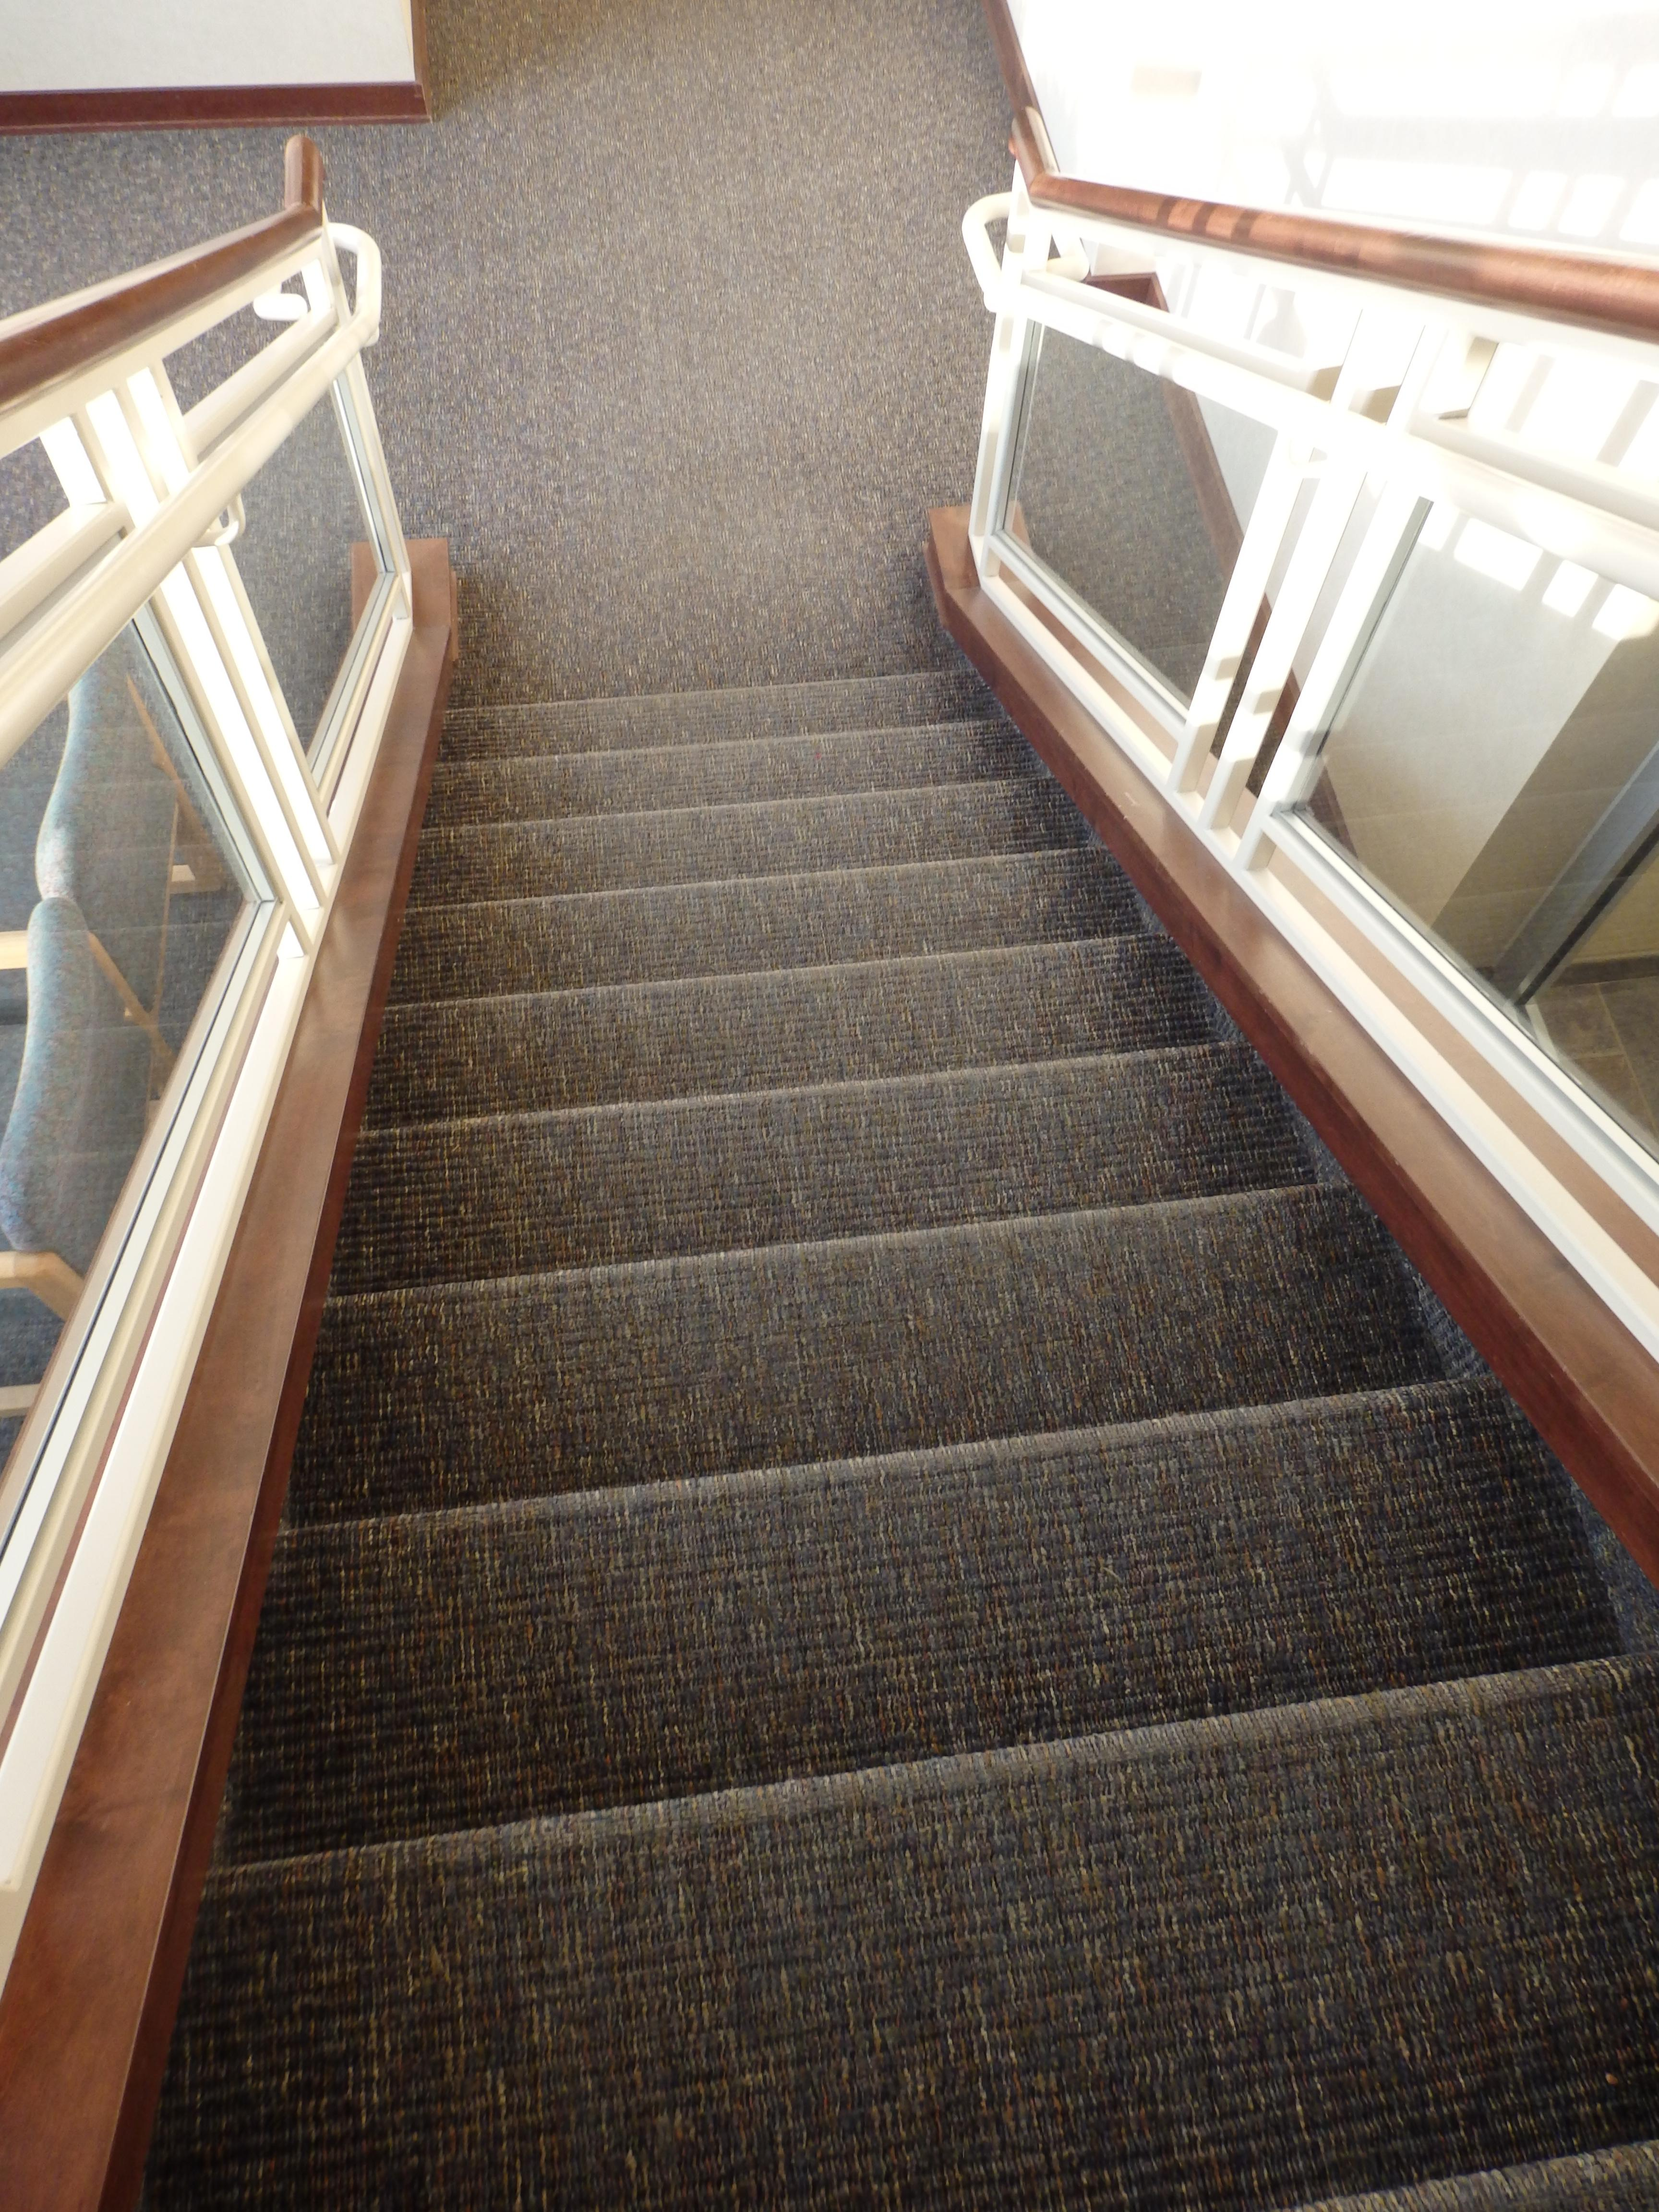stairs_down: (263, 667, 1617, 1942)
